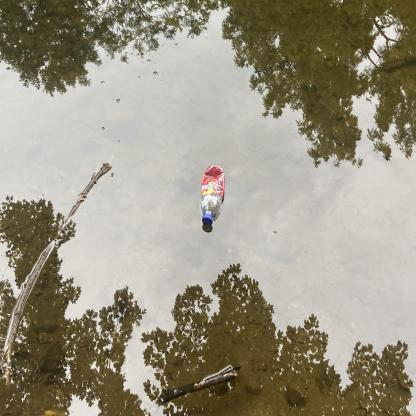trash: (197, 158, 230, 232)
